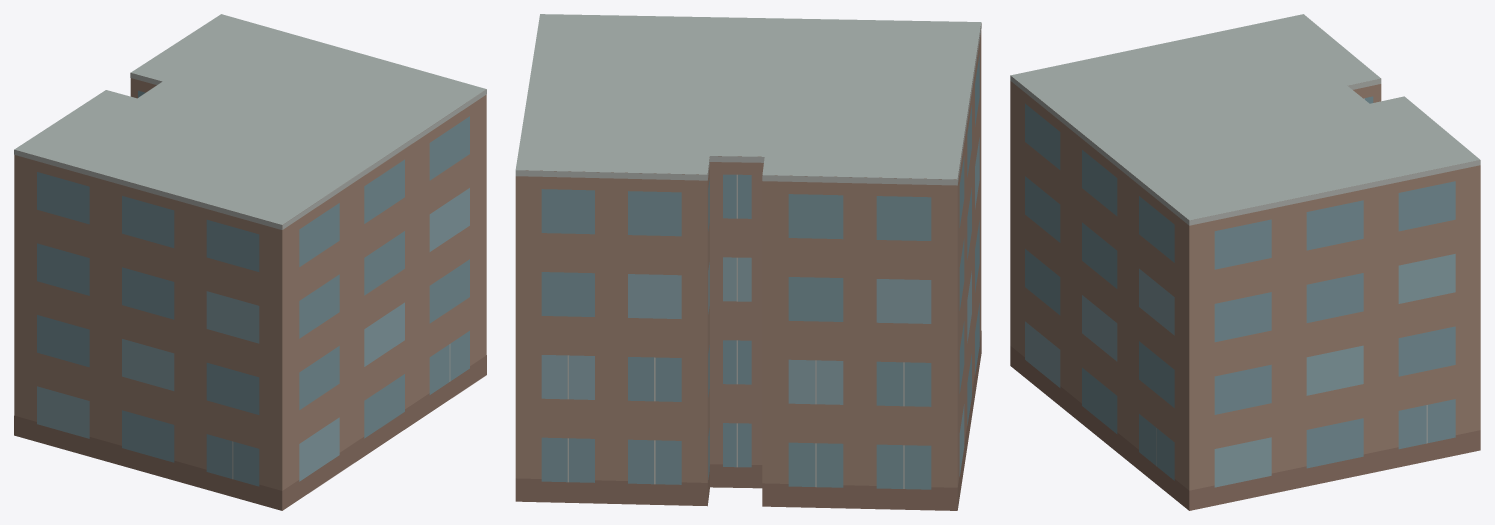
Rendered from survey-upis-32837122.glb.
3 views of the same model, side by side, from view 1: azimuth 30°, elevation 25°; view 2: azimuth 150°, elevation 25°; view 3: azimuth 270°, elevation 25° (orthographic). The views are drawn at different scales.
Visible parts, largest first — view 1: survey-upis-32837122.tmp; view 2: survey-upis-32837122.tmp; view 3: survey-upis-32837122.tmp.
Part boxes in pixels (left/top/right/bottom): survey-upis-32837122.tmp: left=14, top=14, right=486, bottom=510; survey-upis-32837122.tmp: left=515, top=14, right=981, bottom=510; survey-upis-32837122.tmp: left=1010, top=14, right=1480, bottom=510.
Size of the model in its own units: 20.43 by 13.4 by 19.67.
